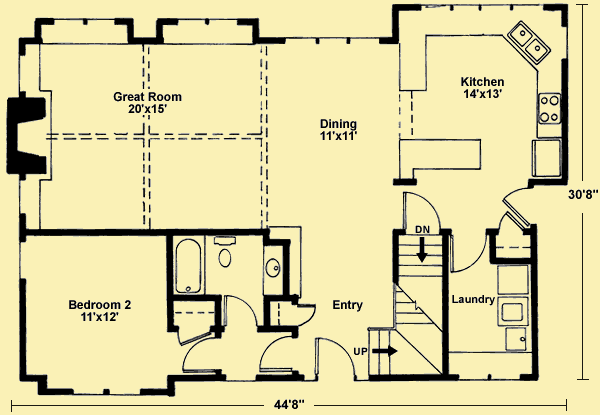door: (310, 333, 358, 386), (399, 187, 444, 238), (447, 226, 489, 276), (178, 335, 225, 378), (499, 183, 542, 230), (256, 335, 303, 373), (220, 290, 260, 331), (295, 299, 320, 329)
large sink: (212, 232, 240, 272)
small sink: (262, 244, 286, 296)
stairs: (363, 225, 451, 381)
tub: (170, 232, 207, 296)
twin sink: (505, 16, 552, 69)
